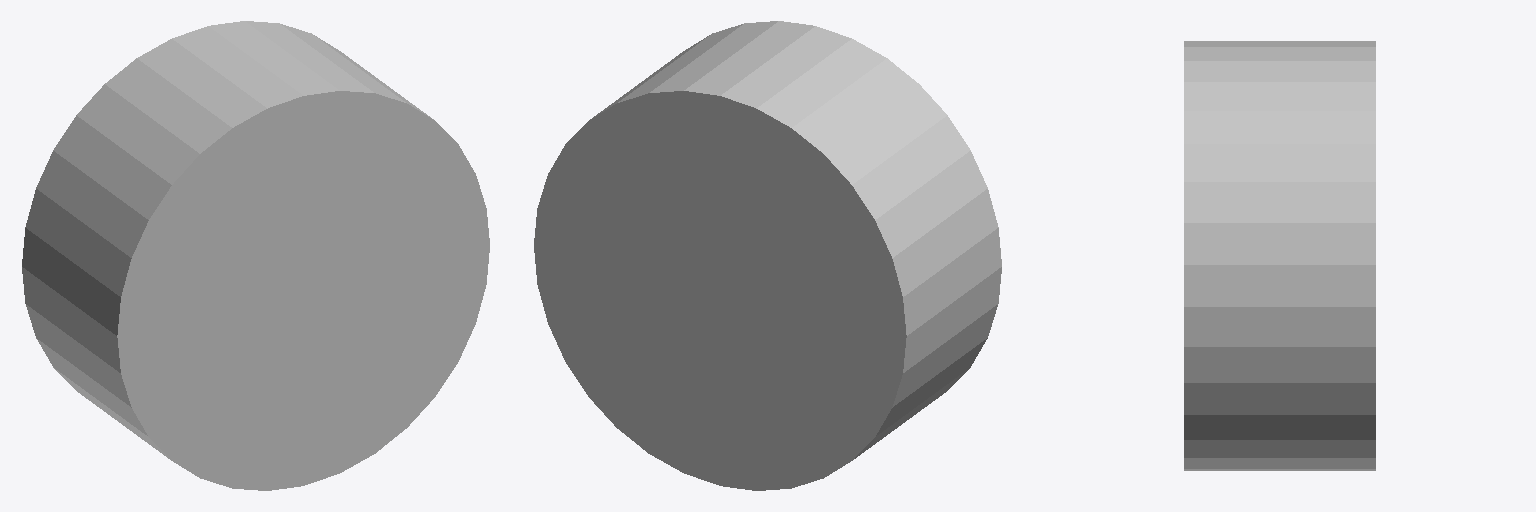
Rendered from knobdown.obj.
The picture shows the model from 3 angles: view 1: azimuth 30°, elevation 25°; view 2: azimuth 150°, elevation 25°; view 3: azimuth 270°, elevation 25°; orthographic projection.
Parts seen in each view (by area): view 1: Cylinder; view 2: Cylinder; view 3: Cylinder.
Part boxes in pixels (left/top/right/bottom): Cylinder: left=22, top=21, right=489, bottom=490; Cylinder: left=534, top=21, right=1001, bottom=490; Cylinder: left=1184, top=41, right=1375, bottom=470.
Size of the model in its own units: 2 by 2 by 0.8883.